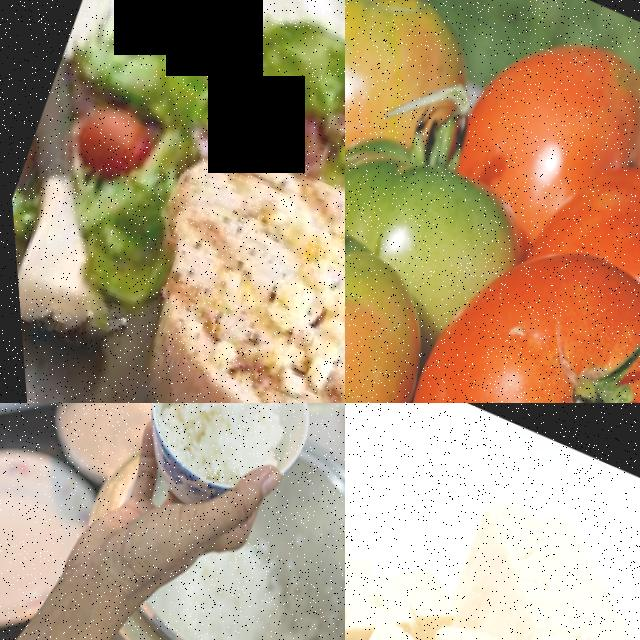tofu: (345, 471, 640, 640)
tomato: (345, 190, 640, 403), (345, 157, 469, 403)
white rice: (146, 403, 281, 474)
